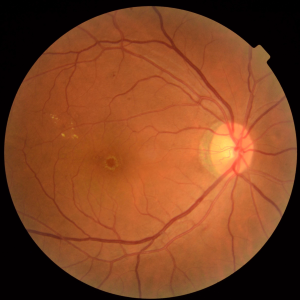retina_disease: (87, 94, 276, 217)
